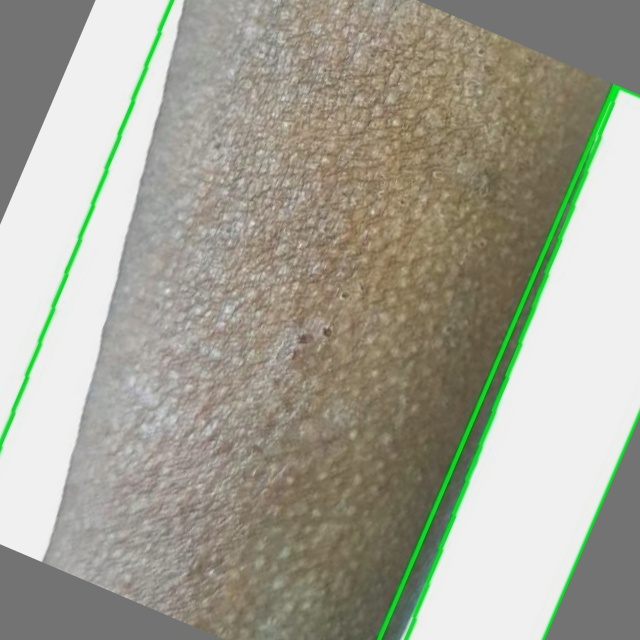Contact Dermatitis: (0, 0, 619, 639), (379, 85, 639, 639)
